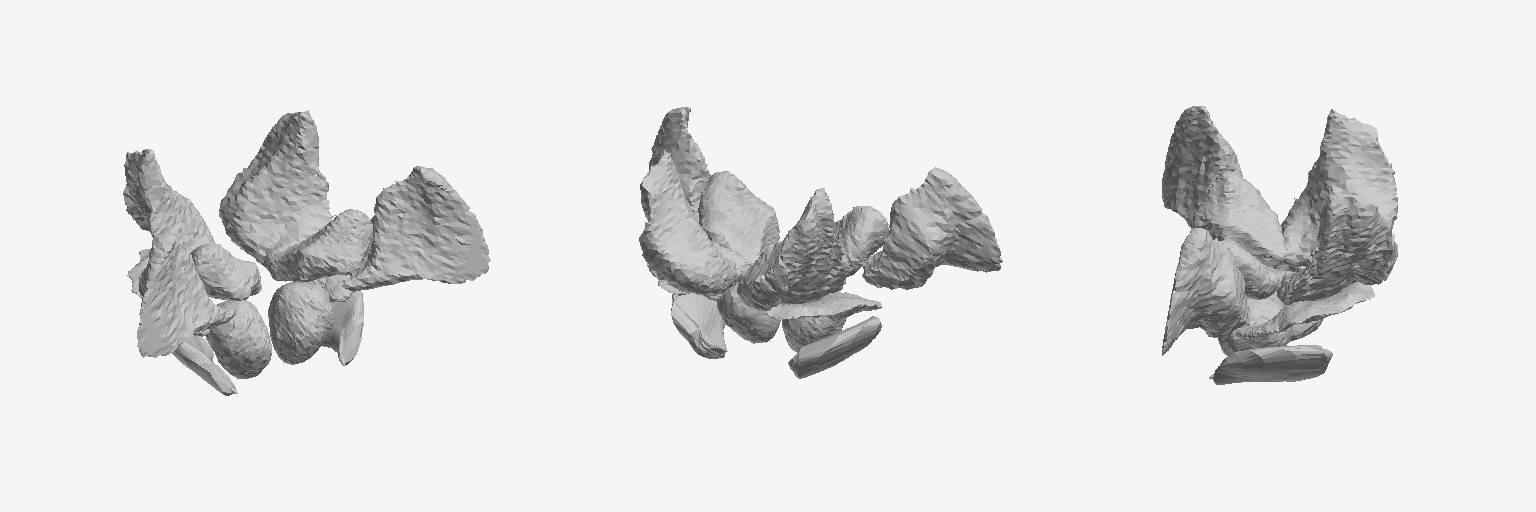
File: brain.obj
The picture shows the model from 3 angles: view 1: azimuth 30°, elevation 25°; view 2: azimuth 150°, elevation 25°; view 3: azimuth 270°, elevation 25°; orthographic projection.
Visible parts, largest first — view 1: 3D_Object.20.005; view 2: 3D_Object.20.005; view 3: 3D_Object.20.005.
Part boxes in pixels (bbox=[...]): 3D_Object.20.005: bbox=[123, 110, 490, 395]; 3D_Object.20.005: bbox=[639, 107, 1002, 378]; 3D_Object.20.005: bbox=[1162, 106, 1397, 384].
Size of the model in its own units: 9.32 by 5.39 by 5.39.